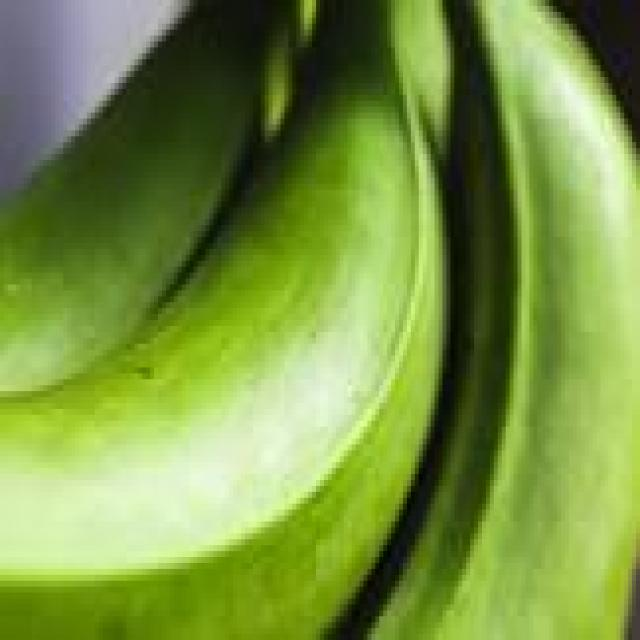banana: (0, 0, 442, 639), (372, 0, 639, 639), (0, 0, 264, 391), (396, 0, 454, 159)
